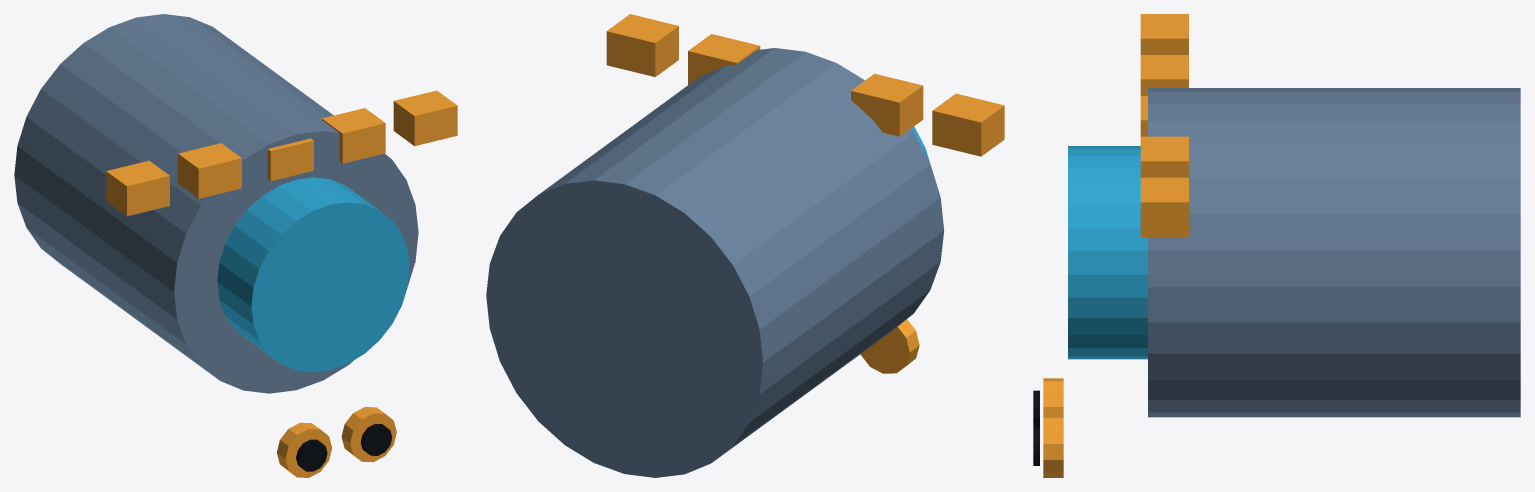
The model's file is 90_L89_EquipmentMaintenanceInspectionCamera.fbx.
The picture shows the model from 3 angles, left to right: view 1: azimuth 30°, elevation 25°; view 2: azimuth 150°, elevation 25°; view 3: azimuth 270°, elevation 25°; orthographic projection. The views are drawn at different scales.
Parts seen in each view (by area): view 1: L87_EquipmentMaintenanceInspectionCamera_Part_0000, L87_EquipmentMaintenanceInspectionCamera_Part_0001, L87_EquipmentMaintenanceInspectionCamera_Part_0002, L87_EquipmentMaintenanceInspectionCamera_Part_0003, L87_EquipmentMaintenanceInspectionCamera_Part_0005, L87_EquipmentMaintenanceInspectionCamera_Part_0004, L87_EquipmentMaintenanceInspectionCamera_Part_0006; view 2: L87_EquipmentMaintenanceInspectionCamera_Part_0000, L87_EquipmentMaintenanceInspectionCamera_Part_0002, L87_EquipmentMaintenanceInspectionCamera_Part_0003; view 3: L87_EquipmentMaintenanceInspectionCamera_Part_0000, L87_EquipmentMaintenanceInspectionCamera_Part_0001, L87_EquipmentMaintenanceInspectionCamera_Part_0002, L87_EquipmentMaintenanceInspectionCamera_Part_0005, L87_EquipmentMaintenanceInspectionCamera_Part_0003.
Boxes of the visible parts, <box> form: L87_EquipmentMaintenanceInspectionCamera_Part_0000: <box>14,14,418,393</box>; L87_EquipmentMaintenanceInspectionCamera_Part_0001: <box>217,177,409,372</box>; L87_EquipmentMaintenanceInspectionCamera_Part_0002: <box>106,90,457,216</box>; L87_EquipmentMaintenanceInspectionCamera_Part_0003: <box>277,422,331,477</box>; L87_EquipmentMaintenanceInspectionCamera_Part_0005: <box>341,407,396,462</box>; L87_EquipmentMaintenanceInspectionCamera_Part_0004: <box>296,439,327,471</box>; L87_EquipmentMaintenanceInspectionCamera_Part_0006: <box>360,423,392,455</box>; L87_EquipmentMaintenanceInspectionCamera_Part_0000: <box>486,48,944,477</box>; L87_EquipmentMaintenanceInspectionCamera_Part_0002: <box>606,14,1004,156</box>; L87_EquipmentMaintenanceInspectionCamera_Part_0003: <box>860,319,919,373</box>; L87_EquipmentMaintenanceInspectionCamera_Part_0000: <box>1148,88,1520,417</box>; L87_EquipmentMaintenanceInspectionCamera_Part_0001: <box>1068,146,1147,359</box>; L87_EquipmentMaintenanceInspectionCamera_Part_0002: <box>1140,14,1188,237</box>; L87_EquipmentMaintenanceInspectionCamera_Part_0005: <box>1043,415,1063,477</box>; L87_EquipmentMaintenanceInspectionCamera_Part_0003: <box>1043,378,1063,415</box>.
Size of the model in its own units: 92 by 80.5 by 101.
